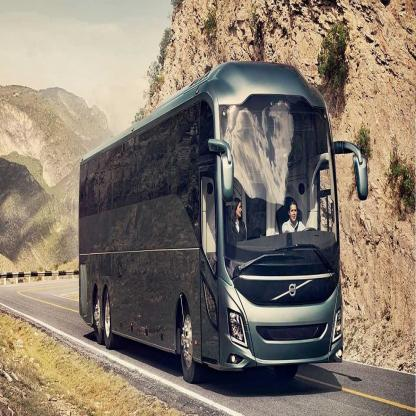Bus: (78, 54, 370, 400)
